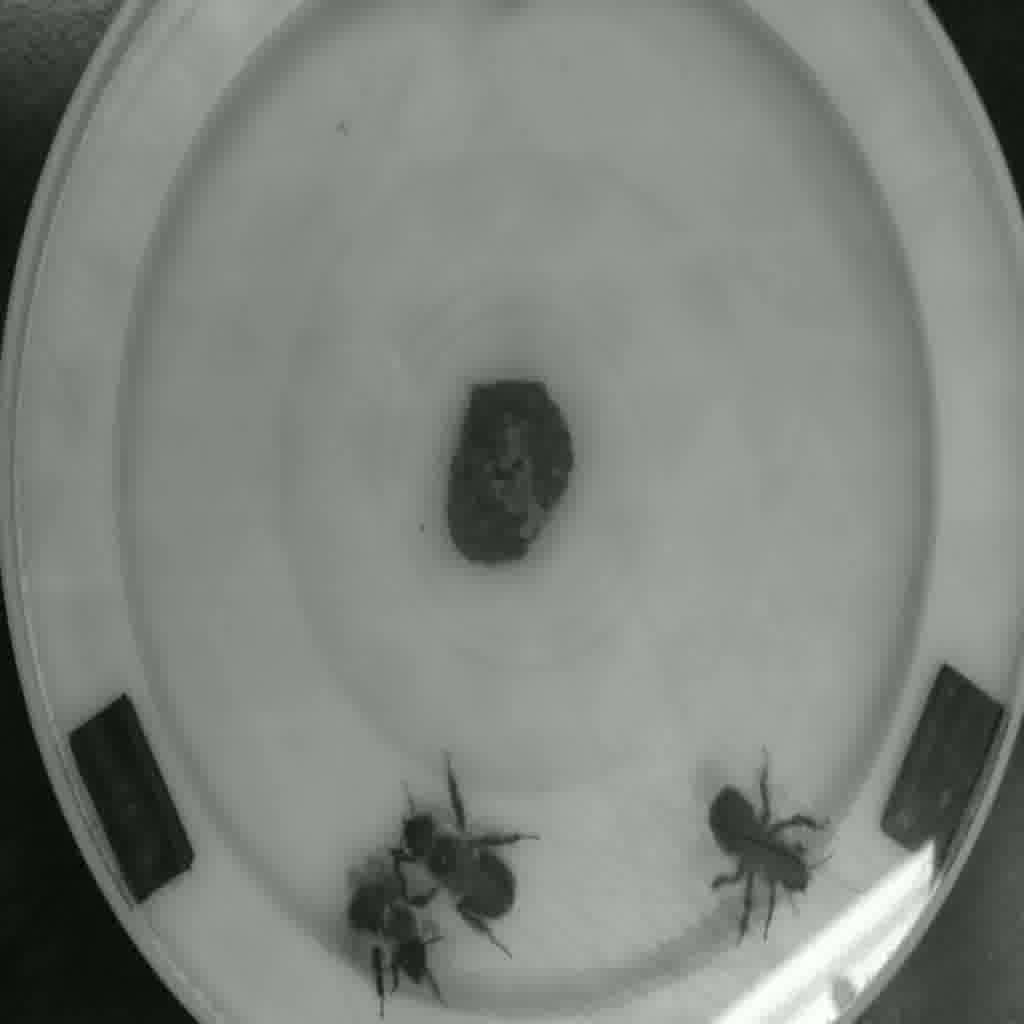bee: (400, 781, 531, 942), (311, 865, 453, 1007), (688, 783, 832, 910)
